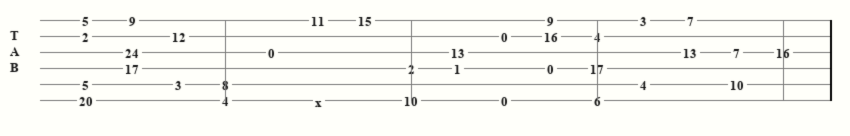0: (268, 46, 279, 59), (501, 94, 512, 107), (501, 30, 512, 43), (547, 62, 558, 75)
1: (454, 62, 465, 75)
10: (404, 94, 422, 107), (730, 78, 748, 91)
11: (311, 14, 329, 27)
12: (172, 30, 190, 43)
13: (451, 46, 469, 59), (683, 46, 701, 59)
15: (358, 14, 376, 27)
16: (544, 30, 562, 43), (776, 46, 794, 59)
17: (125, 62, 143, 75), (590, 62, 608, 75)
2: (82, 30, 93, 43), (408, 62, 419, 75)
20: (79, 94, 97, 107)
24: (125, 46, 143, 59)
3: (175, 78, 186, 91), (640, 14, 651, 27)
4: (222, 94, 233, 107), (594, 30, 605, 43), (640, 78, 651, 91)
5: (82, 14, 93, 27), (82, 78, 93, 91)
6: (594, 94, 605, 107)
7: (687, 14, 698, 27), (733, 46, 744, 59)
8: (222, 78, 233, 91)
9: (129, 14, 140, 27), (547, 14, 558, 27)
x: (315, 95, 326, 105)
